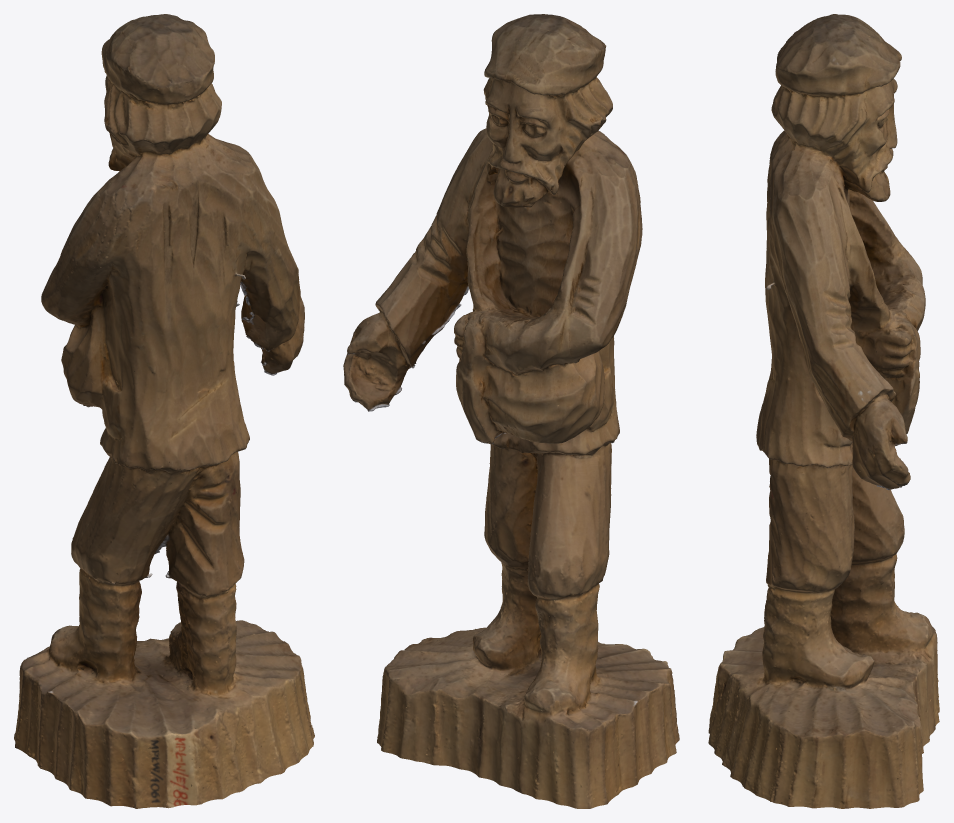
Rendered from MPLW_E_869_lowpoly.glb.
3 renders of one model, left to right at view 1: azimuth 30°, elevation 25°; view 2: azimuth 150°, elevation 25°; view 3: azimuth 270°, elevation 25°, orthographic.
Parts seen in each view (by area): view 1: MPLW_E_869_lowpoly; view 2: MPLW_E_869_lowpoly; view 3: MPLW_E_869_lowpoly.
Part boxes in pixels (left/top/right/bottom): MPLW_E_869_lowpoly: left=14, top=14, right=314, bottom=808; MPLW_E_869_lowpoly: left=343, top=14, right=679, bottom=808; MPLW_E_869_lowpoly: left=708, top=14, right=939, bottom=808.
Size of the model in its own units: 0.1773 by 0.4467 by 0.1298.
Materials: 1 (1 with a texture image).
